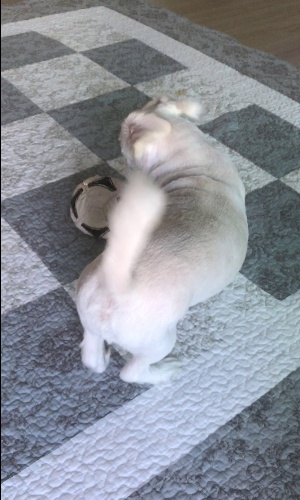ddubi: (71, 90, 254, 389)
